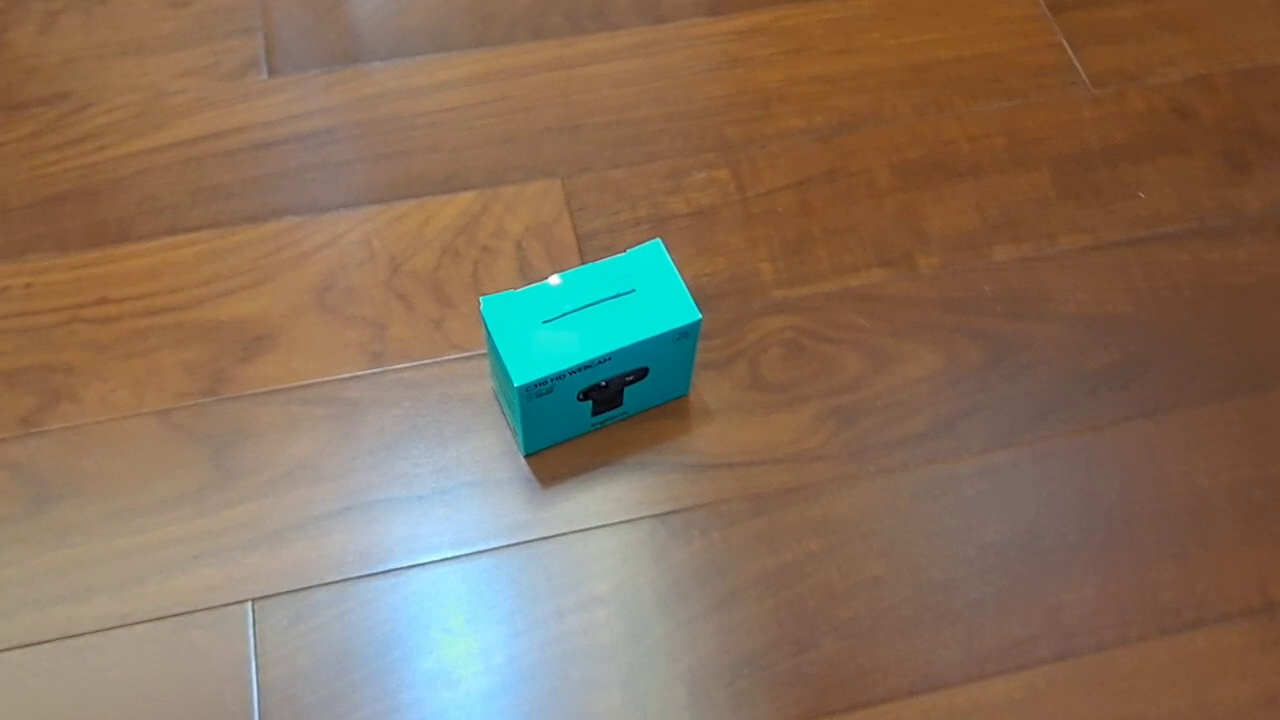webcam: (478, 236, 704, 459)
